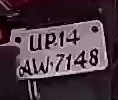1: (65, 52, 74, 74), (57, 30, 65, 48)
4: (75, 49, 88, 70), (66, 29, 81, 47)
7: (53, 52, 64, 73)
8: (89, 47, 100, 68)
A: (20, 58, 34, 79)
P: (43, 32, 56, 51)
U: (27, 32, 43, 53)
W: (31, 57, 52, 76)
